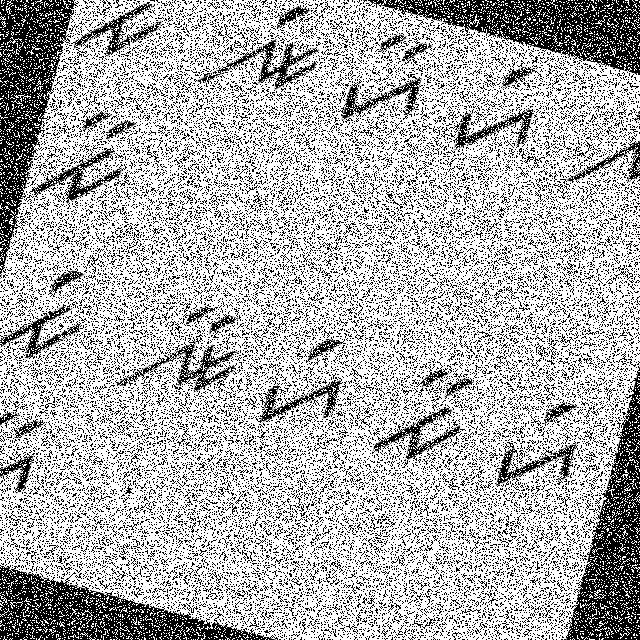han: (339, 20, 440, 142), (0, 397, 59, 529)
hang: (484, 376, 595, 512), (243, 313, 358, 443), (444, 47, 554, 171)
mban: (27, 91, 146, 223), (363, 352, 482, 481)
mbang: (0, 242, 101, 375), (68, 0, 184, 76)
ndan: (105, 272, 257, 418), (563, 75, 639, 220)
ndang: (194, 0, 334, 116)
